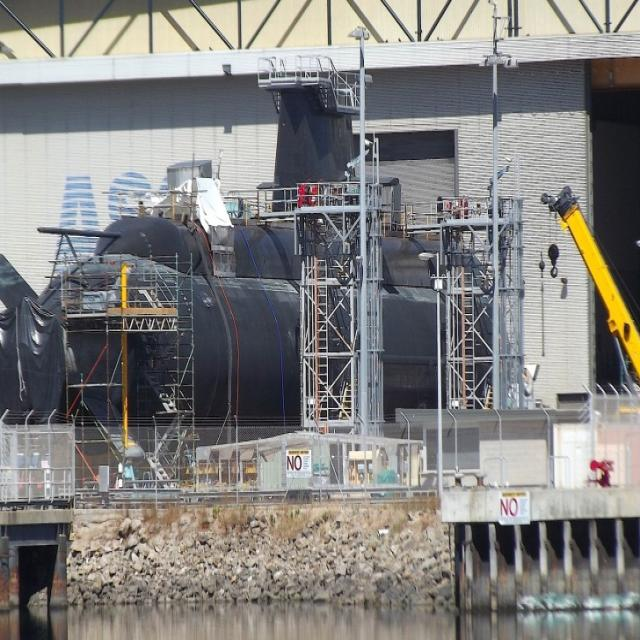submarine: (1, 77, 491, 465)
